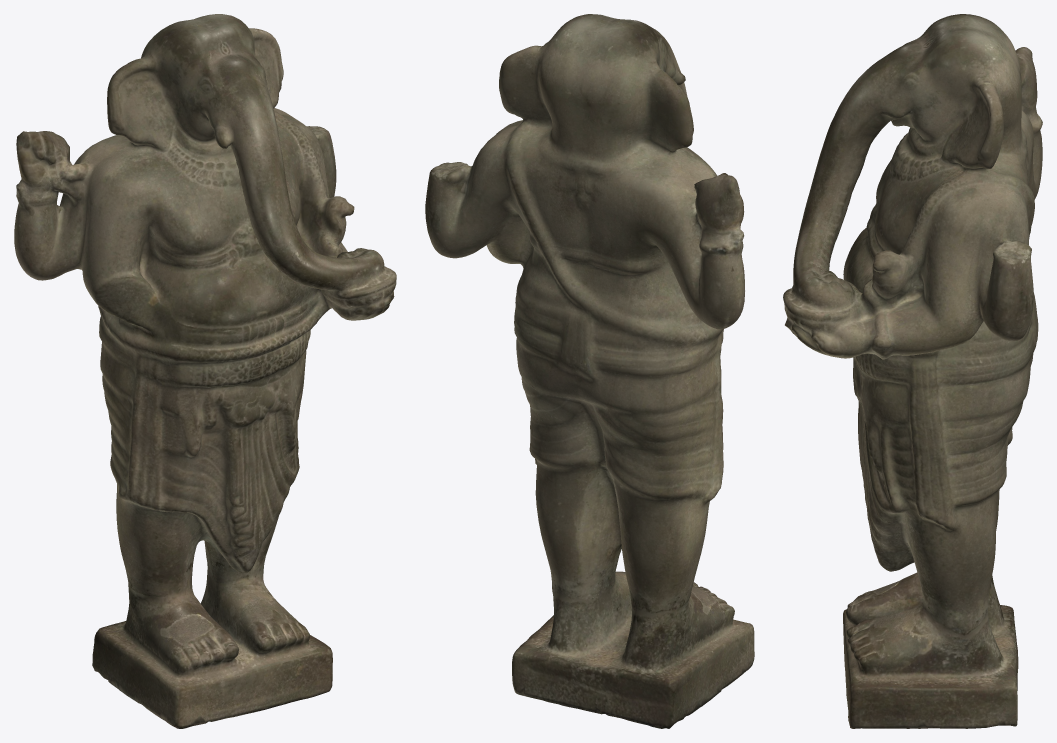
The picture shows the model from 3 angles, left to right: view 1: azimuth 30°, elevation 25°; view 2: azimuth 150°, elevation 25°; view 3: azimuth 270°, elevation 25°; orthographic projection. The views are drawn at different scales.
Size of the model in its own units: 0.4792 by 0.9572 by 0.3365.
Materials: 1 (1 with a texture image).
